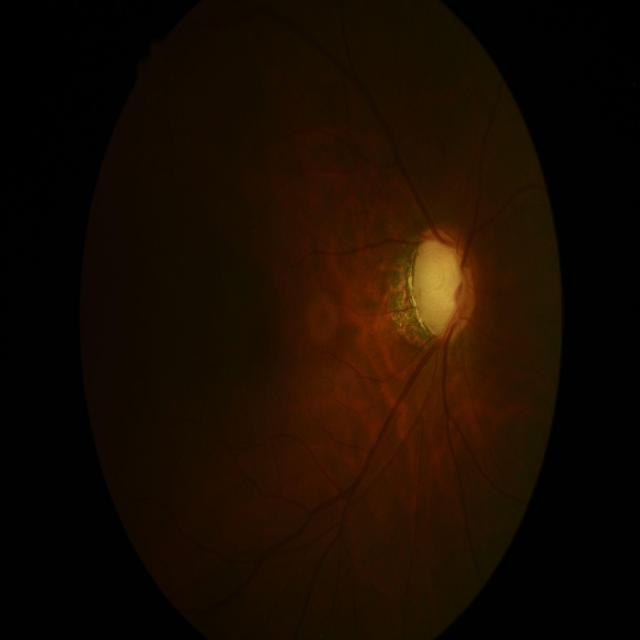cup: (416, 241, 466, 335)
disk: (411, 228, 477, 338)
